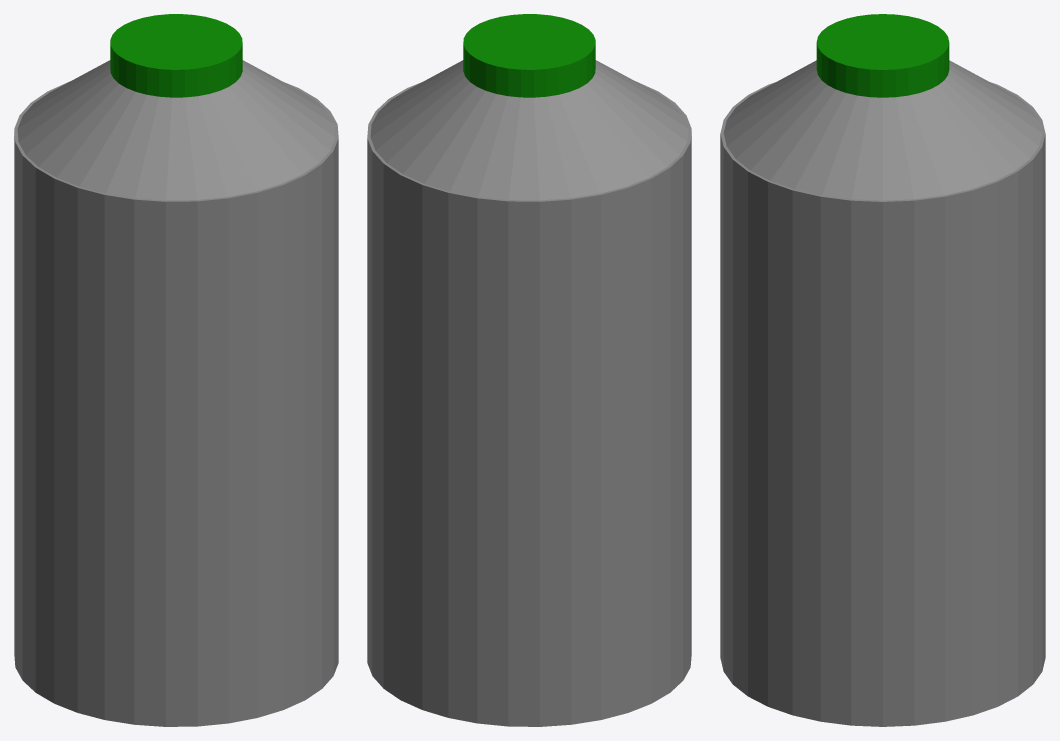
File: bottle.fbx
3 renders of one model, left to right at view 1: azimuth 30°, elevation 25°; view 2: azimuth 150°, elevation 25°; view 3: azimuth 270°, elevation 25°, orthographic.
Visible parts, largest first — view 1: Bottle, Cap; view 2: Bottle, Cap; view 3: Bottle, Cap.
Boxes of the visible parts, x1,y1,x2,y2 form: Bottle: (14, 60, 338, 726); Cap: (110, 14, 242, 97); Bottle: (367, 60, 691, 726); Cap: (463, 14, 595, 97); Bottle: (720, 60, 1045, 726); Cap: (816, 14, 949, 97).
Bounding box in the file's own units: 9.81 × 20.51 × 9.81.
